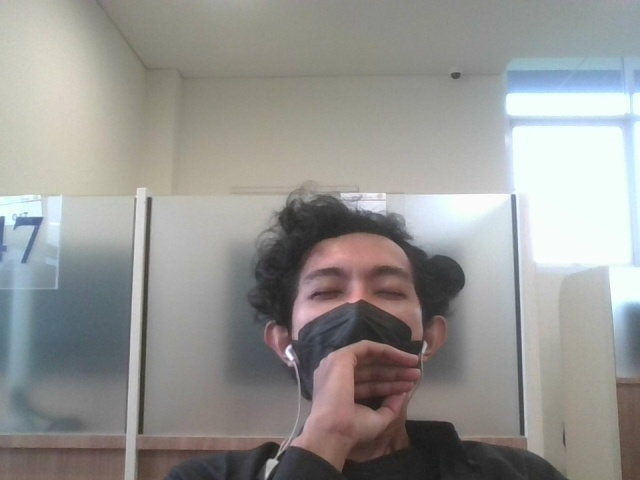Drowsy: (239, 177, 468, 448)
